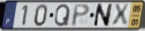0: (34, 3, 49, 28)
1: (21, 4, 30, 26)
N: (93, 3, 114, 28)
P: (71, 4, 91, 28)
Q: (54, 4, 72, 28)
X: (111, 4, 130, 28)
